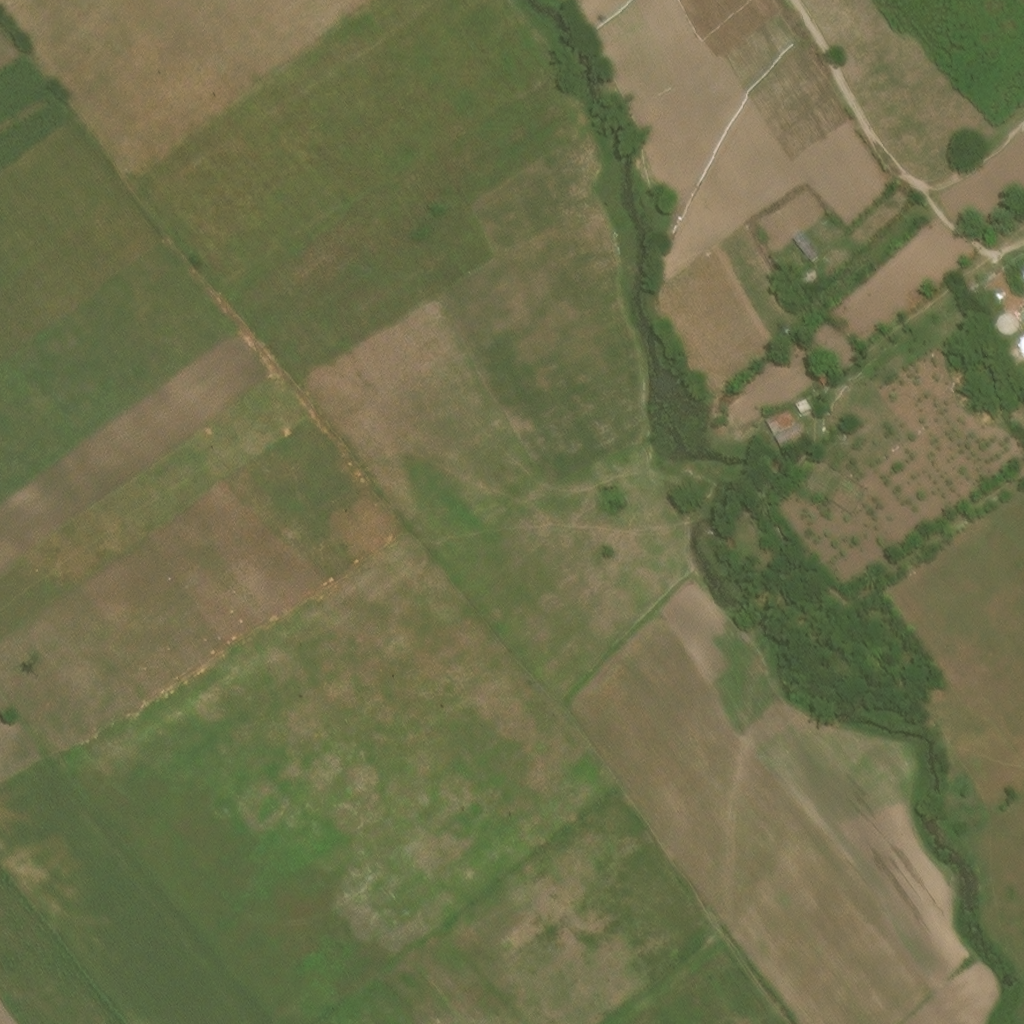no_damage: (768, 412, 800, 442), (779, 430, 812, 458), (794, 232, 822, 264), (798, 265, 820, 284), (1017, 331, 1023, 349)
unclassified: (762, 482, 777, 497)
